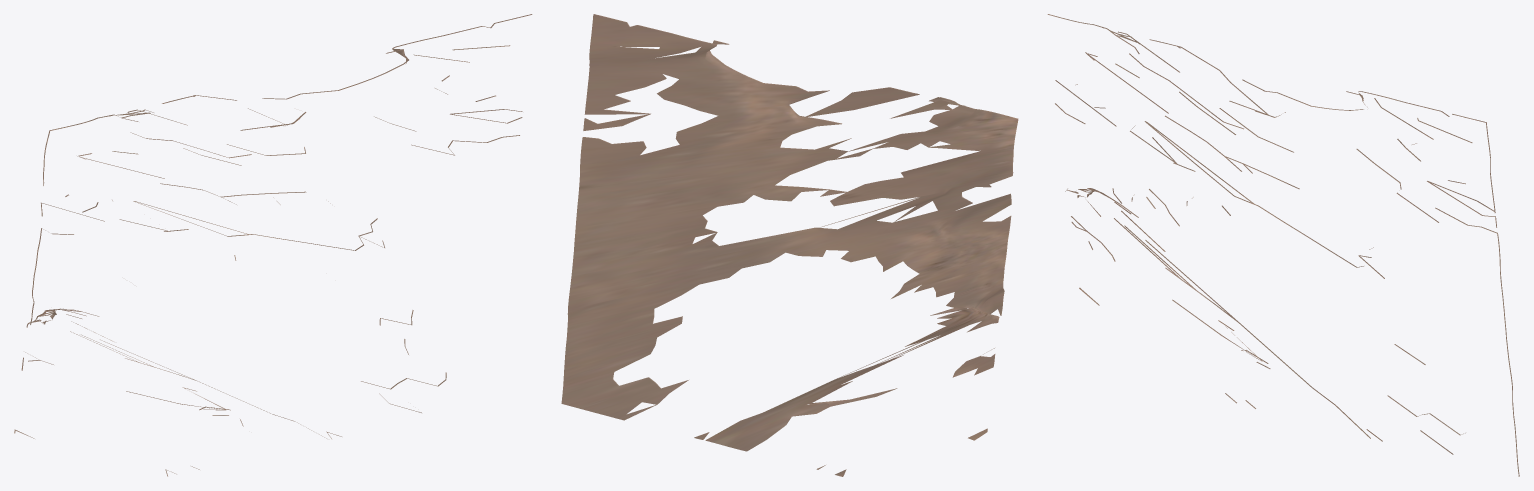
3 views of the same model, side by side, from view 1: azimuth 30°, elevation 25°; view 2: azimuth 150°, elevation 25°; view 3: azimuth 330°, elevation 25° (orthographic). The views are drawn at different scales.
Size of the model in its own units: 20.18 by 16.58 by 3.35.
1 material, 1 textured.
